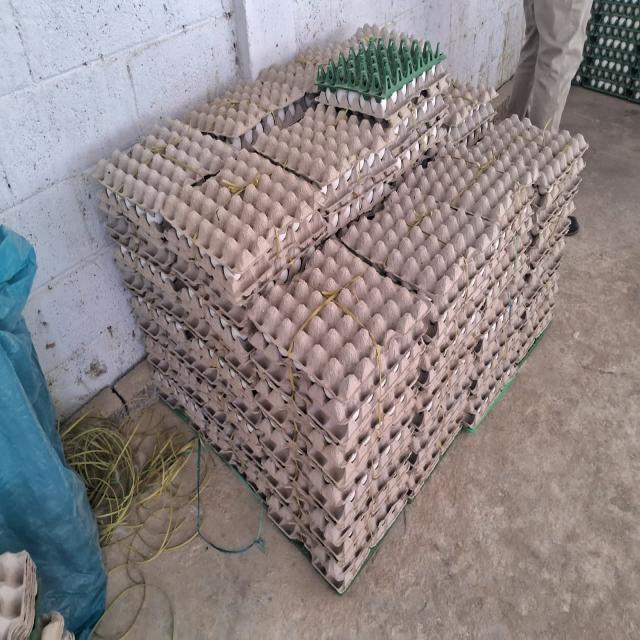egg_tray: (98, 137, 322, 301), (250, 239, 432, 403), (232, 383, 413, 521), (164, 150, 324, 300), (246, 412, 410, 555), (250, 332, 424, 460), (390, 186, 514, 365), (416, 273, 525, 476), (166, 151, 322, 292), (262, 413, 410, 561), (342, 187, 500, 321), (235, 445, 407, 567), (232, 381, 413, 493), (94, 121, 236, 250), (254, 105, 396, 233), (254, 361, 416, 465), (268, 451, 408, 569), (327, 95, 446, 233), (264, 453, 408, 566), (270, 450, 408, 567), (116, 251, 252, 367), (288, 345, 420, 459), (154, 372, 272, 499), (418, 273, 524, 414), (94, 135, 234, 241), (419, 283, 522, 427), (176, 150, 324, 249), (93, 121, 236, 223), (268, 487, 406, 592), (466, 266, 556, 427), (463, 121, 588, 236), (255, 105, 394, 207), (295, 340, 424, 447), (421, 252, 527, 382), (132, 298, 254, 410), (398, 147, 534, 243), (288, 359, 416, 459), (386, 167, 500, 279), (256, 382, 378, 485), (407, 135, 536, 227), (256, 105, 392, 190), (114, 245, 247, 331), (258, 23, 415, 94), (100, 187, 208, 286), (316, 37, 444, 118), (123, 273, 251, 353), (406, 149, 534, 229), (438, 129, 539, 227), (418, 265, 501, 383), (150, 350, 262, 437), (122, 128, 236, 213), (306, 496, 406, 592), (184, 75, 314, 148), (153, 371, 246, 472), (153, 371, 244, 473), (468, 116, 588, 192), (132, 287, 252, 363), (408, 355, 471, 499), (145, 331, 257, 410), (176, 244, 313, 307), (348, 413, 412, 545), (412, 330, 479, 453), (189, 413, 278, 501), (154, 365, 246, 449), (99, 197, 184, 287), (235, 379, 312, 477), (416, 305, 484, 415), (416, 303, 486, 409), (98, 193, 184, 279), (291, 23, 416, 81), (446, 116, 552, 184), (318, 65, 448, 120), (258, 37, 358, 107), (418, 287, 490, 383), (202, 245, 313, 305), (98, 191, 177, 273), (258, 40, 352, 107), (141, 119, 236, 185), (172, 258, 250, 337), (256, 369, 332, 447), (145, 339, 240, 401), (472, 273, 528, 378), (298, 24, 426, 69), (366, 70, 448, 140), (407, 402, 466, 499), (413, 352, 472, 448), (98, 189, 174, 263), (170, 250, 244, 326), (322, 158, 394, 234), (386, 94, 448, 181), (472, 261, 528, 357), (469, 222, 530, 308), (214, 376, 276, 459), (472, 279, 528, 369), (108, 225, 183, 289), (481, 187, 533, 277), (149, 352, 224, 414), (380, 93, 448, 158), (290, 33, 361, 95), (206, 389, 267, 461), (98, 191, 166, 255), (396, 123, 466, 185), (406, 420, 460, 500), (348, 218, 411, 286), (183, 269, 250, 332), (509, 276, 558, 362), (322, 176, 392, 236), (240, 93, 315, 148), (383, 93, 448, 155), (209, 355, 262, 430), (251, 331, 310, 397), (533, 157, 584, 231), (520, 198, 574, 267), (190, 341, 258, 395), (463, 362, 517, 429), (114, 245, 182, 298), (393, 118, 446, 185), (114, 245, 185, 294), (444, 81, 496, 146), (150, 118, 232, 158), (536, 131, 588, 194), (485, 231, 532, 299), (0, 551, 37, 637), (528, 195, 575, 262), (528, 187, 576, 252), (520, 277, 558, 358), (526, 199, 574, 263), (110, 229, 178, 273), (522, 241, 565, 309), (488, 231, 532, 297), (574, 41, 640, 85), (380, 371, 416, 451), (523, 239, 566, 305), (142, 294, 194, 345), (246, 181, 312, 219), (502, 183, 538, 251), (258, 57, 317, 98), (536, 155, 585, 204), (445, 80, 497, 125), (587, 3, 640, 43), (578, 58, 636, 94), (252, 345, 290, 399), (446, 104, 494, 145), (328, 185, 384, 220), (358, 87, 418, 119), (348, 23, 426, 47), (448, 105, 494, 145), (587, 0, 640, 34), (584, 43, 638, 74), (588, 1, 640, 32), (521, 306, 552, 357), (581, 67, 632, 97), (350, 23, 417, 43), (590, 17, 640, 42), (594, 0, 640, 24), (135, 178, 177, 202), (38, 611, 74, 639), (592, 35, 640, 53), (182, 380, 208, 410), (422, 65, 448, 95), (295, 389, 318, 414), (410, 167, 432, 188), (355, 155, 373, 178), (218, 298, 237, 319), (256, 421, 273, 442), (282, 220, 296, 244), (228, 425, 244, 445), (262, 397, 282, 413), (329, 445, 347, 461), (421, 132, 436, 150), (492, 347, 506, 366), (259, 65, 278, 79), (630, 77, 640, 102), (590, 0, 600, 21), (384, 211, 396, 228), (169, 389, 184, 402), (330, 219, 343, 232), (346, 95, 358, 109), (108, 213, 123, 224), (284, 260, 301, 269), (180, 223, 194, 233), (379, 443, 390, 455), (184, 185, 204, 191), (272, 237, 280, 251), (187, 261, 198, 271), (158, 361, 168, 371), (238, 425, 246, 437), (308, 467, 318, 476), (188, 261, 197, 271), (273, 413, 284, 421), (332, 509, 343, 517), (318, 91, 326, 102), (428, 324, 436, 335), (510, 321, 518, 332), (325, 401, 332, 413), (347, 497, 356, 505), (420, 102, 426, 114), (300, 182, 310, 189), (147, 327, 155, 335), (509, 335, 517, 343), (416, 269, 423, 278), (432, 163, 441, 170), (212, 429, 218, 439), (254, 381, 261, 389), (452, 199, 459, 207), (288, 80, 299, 85), (414, 236, 418, 249), (158, 255, 166, 261), (474, 369, 480, 377), (382, 445, 388, 453), (468, 134, 473, 143), (366, 425, 371, 434), (343, 529, 349, 536), (151, 175, 158, 181), (254, 157, 261, 163), (230, 139, 236, 146), (496, 345, 502, 352), (418, 39, 424, 46), (258, 72, 264, 79), (521, 265, 528, 271), (344, 236, 349, 244), (263, 121, 268, 129), (130, 273, 134, 283), (394, 363, 400, 369), (254, 128, 260, 134), (182, 245, 191, 249), (208, 211, 214, 217), (322, 499, 328, 505), (134, 297, 140, 303), (398, 235, 404, 241), (485, 358, 490, 365), (309, 196, 314, 203), (123, 189, 130, 194), (510, 356, 517, 361), (197, 337, 202, 344), (385, 150, 390, 157), (509, 249, 512, 260), (264, 429, 268, 437), (214, 287, 218, 295), (218, 143, 226, 147), (158, 256, 166, 260), (268, 65, 276, 69), (281, 391, 286, 397), (260, 425, 266, 430), (164, 381, 170, 386), (416, 259, 422, 264), (294, 264, 300, 269), (150, 356, 156, 361), (511, 357, 516, 363), (433, 127, 436, 137), (258, 491, 263, 497), (448, 189, 452, 196), (183, 274, 187, 281), (334, 476, 339, 481), (255, 475, 260, 480), (176, 234, 181, 239), (238, 464, 244, 468), (396, 431, 400, 437), (270, 225, 274, 231), (255, 349, 259, 355), (194, 326, 200, 330), (160, 277, 164, 283), (370, 119, 376, 123), (247, 398, 251, 404), (354, 397, 358, 403), (181, 289, 188, 292), (368, 427, 371, 434), (383, 230, 388, 234), (170, 196, 174, 201), (290, 472, 294, 477), (474, 321, 478, 326), (419, 41, 424, 45), (454, 394, 458, 399), (280, 383, 285, 387), (418, 41, 423, 45), (376, 440, 380, 445), (166, 132, 170, 137), (500, 337, 503, 343), (425, 167, 428, 173), (478, 133, 481, 139), (258, 449, 261, 455), (548, 301, 554, 304), (415, 141, 418, 147), (414, 349, 418, 353), (398, 447, 402, 451), (262, 159, 266, 163), (430, 407, 434, 411), (444, 407, 446, 415), (190, 273, 194, 277), (314, 451, 318, 455), (156, 219, 160, 223), (438, 443, 442, 447), (334, 183, 338, 187), (396, 227, 400, 231), (638, 67, 640, 75), (446, 405, 450, 409), (380, 531, 383, 536), (176, 388, 179, 393), (397, 470, 400, 475), (196, 379, 199, 384), (140, 264, 145, 267), (167, 258, 172, 261), (462, 384, 465, 389), (255, 334, 260, 337), (243, 373, 250, 375), (190, 273, 193, 277), (148, 249, 152, 252), (178, 189, 181, 193), (284, 174, 288, 177), (242, 164, 246, 167), (332, 503, 336, 506), (300, 441, 303, 445), (299, 379, 302, 383), (156, 267, 158, 273), (481, 269, 484, 273), (332, 103, 338, 105), (329, 95, 332, 99), (523, 315, 526, 319), (298, 464, 302, 467), (132, 207, 135, 211), (396, 433, 399, 437), (405, 116, 408, 120), (432, 97, 434, 103), (302, 60, 306, 63), (414, 156, 416, 161), (272, 232, 274, 237), (384, 407, 386, 412), (444, 334, 446, 339), (458, 182, 461, 185), (221, 273, 224, 276), (110, 171, 113, 174), (143, 165, 146, 168), (172, 202, 175, 205), (254, 447, 257, 450), (254, 424, 257, 427), (238, 428, 241, 431), (415, 350, 418, 353), (255, 350, 258, 353), (265, 465, 268, 468), (399, 447, 402, 450), (395, 125, 398, 128), (438, 103, 441, 106), (414, 283, 416, 287), (521, 267, 523, 271), (520, 243, 522, 247), (194, 229, 196, 233), (264, 180, 268, 182), (272, 167, 276, 169), (280, 460, 284, 462), (476, 312, 478, 316), (130, 254, 132, 258), (568, 183, 570, 187), (336, 477, 338, 481), (252, 338, 256, 340), (334, 185, 336, 189), (342, 185, 346, 187), (398, 265, 400, 269), (386, 261, 388, 265), (308, 400, 310, 403), (183, 397, 186, 399), (423, 292, 425, 295), (510, 319, 512, 322), (458, 150, 460, 153), (176, 325, 179, 327), (165, 308, 167, 311), (167, 160, 170, 162), (520, 223, 522, 226), (445, 201, 448, 203), (376, 441, 378, 444), (242, 434, 244, 437), (202, 412, 204, 415), (200, 407, 202, 410), (172, 381, 174, 384), (276, 496, 278, 499), (316, 88, 319, 90), (234, 335, 237, 337), (158, 213, 161, 215), (374, 462, 376, 465), (326, 192, 328, 195), (369, 157, 372, 159), (430, 113, 433, 115), (160, 189, 165, 190), (332, 400, 334, 402), (384, 527, 386, 529), (320, 483, 322, 485), (408, 257, 410, 259), (388, 203, 390, 205), (272, 231, 274, 233), (142, 175, 144, 177), (434, 328, 436, 330), (467, 311, 468, 315), (146, 201, 148, 203), (146, 156, 148, 158), (198, 408, 200, 410), (174, 375, 176, 377), (164, 359, 166, 361), (152, 291, 154, 293), (244, 429, 246, 431), (370, 393, 372, 395), (196, 409, 198, 411), (458, 407, 460, 409), (399, 447, 401, 449), (397, 400, 401, 401), (334, 215, 336, 217), (362, 167, 364, 169), (466, 283, 468, 285), (358, 30, 360, 32), (136, 229, 139, 230), (191, 407, 192, 410), (376, 442, 379, 443), (248, 437, 249, 440), (249, 438, 252, 439), (362, 114, 365, 115), (308, 104, 311, 105), (521, 262, 522, 264), (126, 200, 128, 201), (368, 167, 370, 168), (526, 267, 528, 268), (201, 351, 202, 353), (121, 182, 123, 183), (208, 180, 210, 181), (144, 175, 146, 176), (479, 172, 480, 174), (274, 232, 275, 234), (287, 532, 289, 533), (251, 455, 252, 457), (289, 447, 290, 449), (190, 299, 192, 300), (162, 271, 164, 272), (163, 396, 164, 398), (486, 369, 488, 370), (158, 214, 160, 215), (426, 338, 428, 339), (396, 436, 398, 437), (116, 191, 118, 192), (492, 258, 493, 260), (407, 151, 408, 153), (407, 114, 408, 116), (368, 35, 370, 36), (337, 449, 338, 450), (167, 309, 168, 310), (320, 409, 321, 410), (216, 413, 217, 414), (165, 376, 166, 377), (397, 167, 398, 168), (429, 131, 430, 132), (280, 274, 281, 275), (379, 382, 379, 383), (423, 265, 423, 266), (434, 345, 436, 345), (445, 196, 445, 197), (463, 187, 463, 188), (285, 278, 285, 279), (199, 340, 199, 341), (230, 275, 230, 276), (161, 274, 161, 276), (268, 189, 268, 190), (130, 183, 130, 186), (139, 172, 139, 173), (271, 125, 272, 125), (452, 305, 452, 306), (485, 285, 485, 286), (528, 208, 528, 209), (445, 396, 445, 397), (323, 391, 323, 393), (292, 370, 292, 372), (256, 445, 256, 446), (250, 443, 250, 443), (340, 503, 342, 503), (350, 498, 350, 501), (200, 143, 202, 143), (250, 454, 250, 455), (254, 442, 254, 444), (297, 442, 297, 443), (276, 429, 276, 430), (281, 465, 281, 465), (174, 369, 174, 371), (173, 363, 174, 363), (179, 314, 179, 315), (159, 265, 163, 265), (423, 149, 423, 149), (214, 259, 214, 259), (374, 154, 374, 155), (407, 181, 409, 181), (348, 97, 348, 103), (425, 76, 425, 79), (430, 74, 430, 75), (443, 152, 443, 153), (550, 134, 550, 135), (372, 523, 372, 524), (383, 518, 383, 519), (525, 175, 525, 179), (583, 65, 583, 66), (525, 274, 525, 275), (363, 443, 363, 443), (385, 411, 385, 412), (385, 407, 385, 409), (400, 401, 402, 401), (179, 382, 179, 383), (365, 461, 365, 461), (316, 460, 316, 461), (181, 127, 181, 127), (445, 443, 445, 445), (332, 211, 332, 212), (348, 191, 348, 192), (472, 285, 472, 286), (481, 275, 481, 278), (363, 223, 364, 223), (198, 134, 198, 135), (463, 398, 463, 400)
